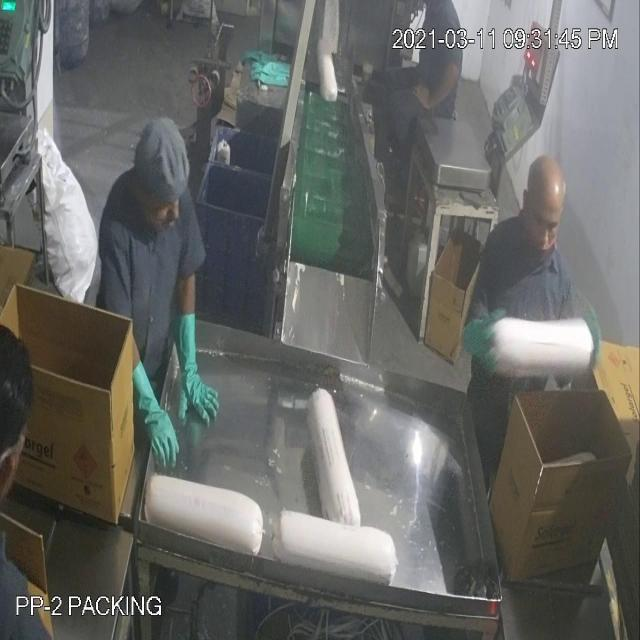Gloves: (45, 56, 439, 418)
